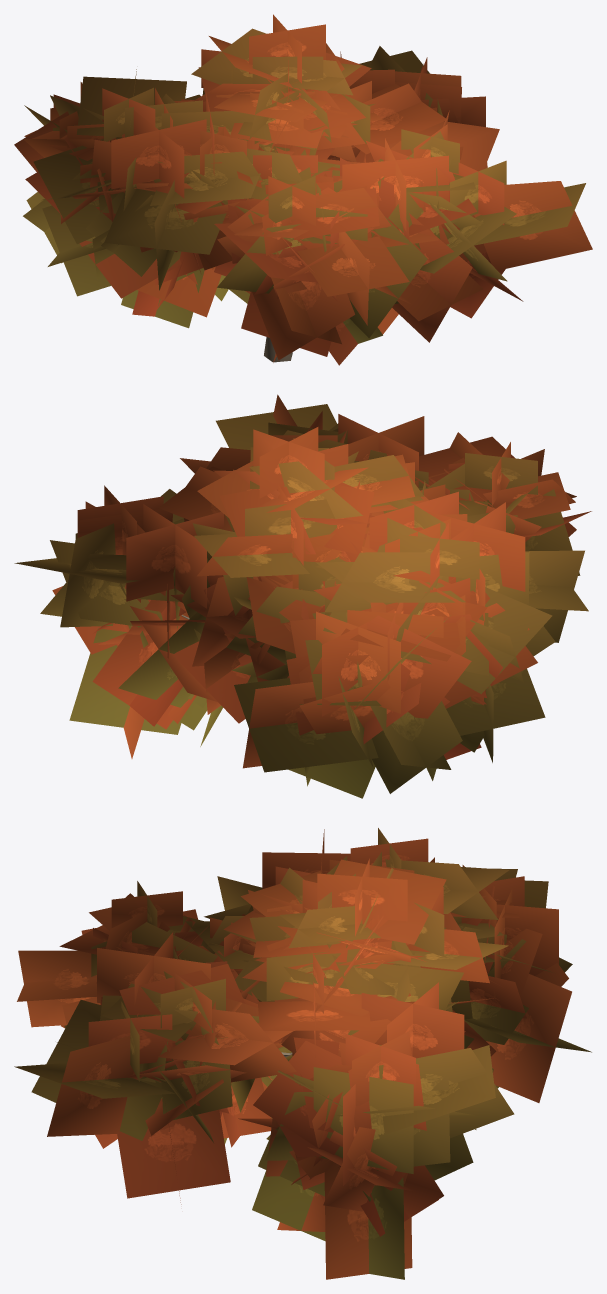
Rendered from flamboyan-bajo.glb.
The picture shows the model from 3 angles, top to bottom: view 1: azimuth 30°, elevation 25°; view 2: azimuth 150°, elevation 25°; view 3: azimuth 270°, elevation 25°; orthographic projection. The views are drawn at different scales.
Visible parts, largest first — view 1: flamboyan; view 2: flamboyan; view 3: flamboyan.
Part boxes in pixels (box(x1,y1,x2,y2)): flamboyan: box(14, 14, 592, 365); flamboyan: box(14, 394, 591, 798); flamboyan: box(14, 828, 591, 1279).
Bounding box in the file's own units: 16.19 × 10.66 × 16.66.
Materials: 2 (1 with a texture image).
